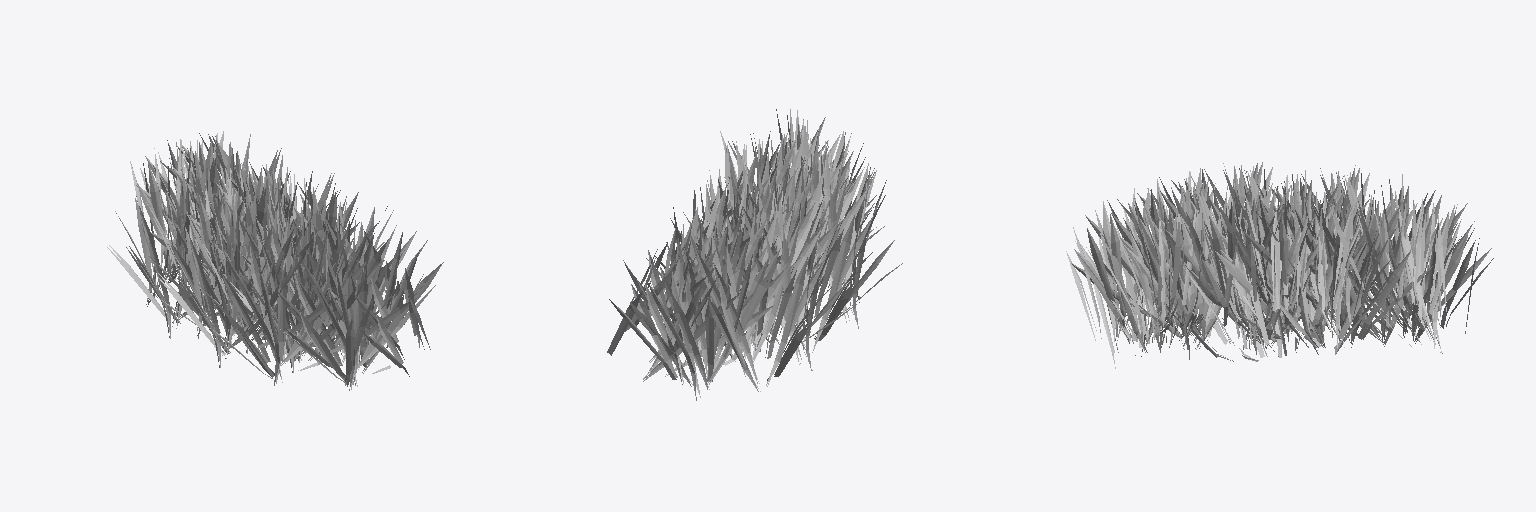
The model's file is small_water_weeds.obj.
3 renders of one model, left to right at view 1: azimuth 30°, elevation 25°; view 2: azimuth 150°, elevation 25°; view 3: azimuth 270°, elevation 25°, orthographic.
Visible parts, largest first — view 1: weed04; view 2: weed04; view 3: weed04.
Boxes of the visible parts, x1,y1,x2,y2 form: weed04: [107, 131, 443, 390]; weed04: [607, 109, 902, 400]; weed04: [1066, 162, 1493, 368].
Bounding box in the file's own units: 31.66 × 26.49 × 59.34.